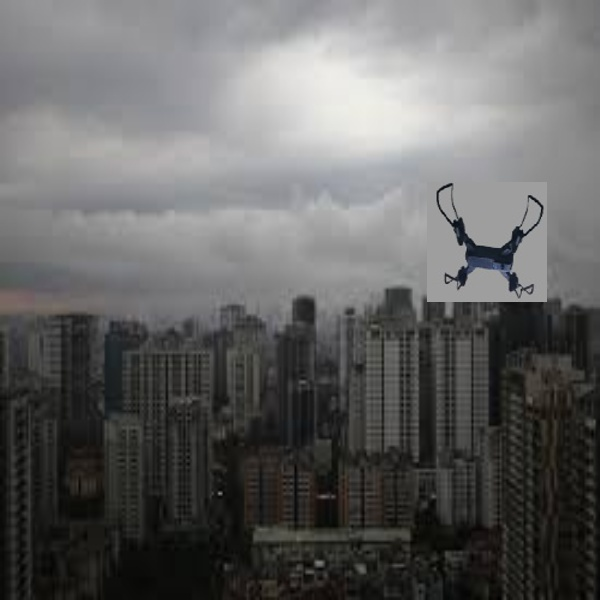drone: (429, 180, 548, 300)
